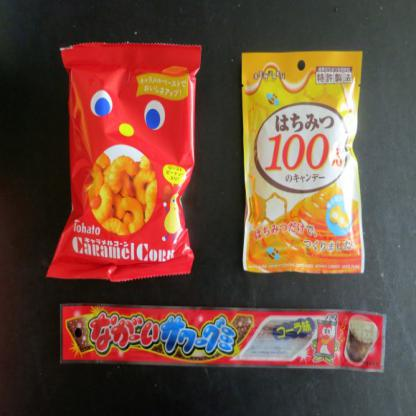potatochip: (43, 30, 207, 290), (236, 43, 369, 285)
